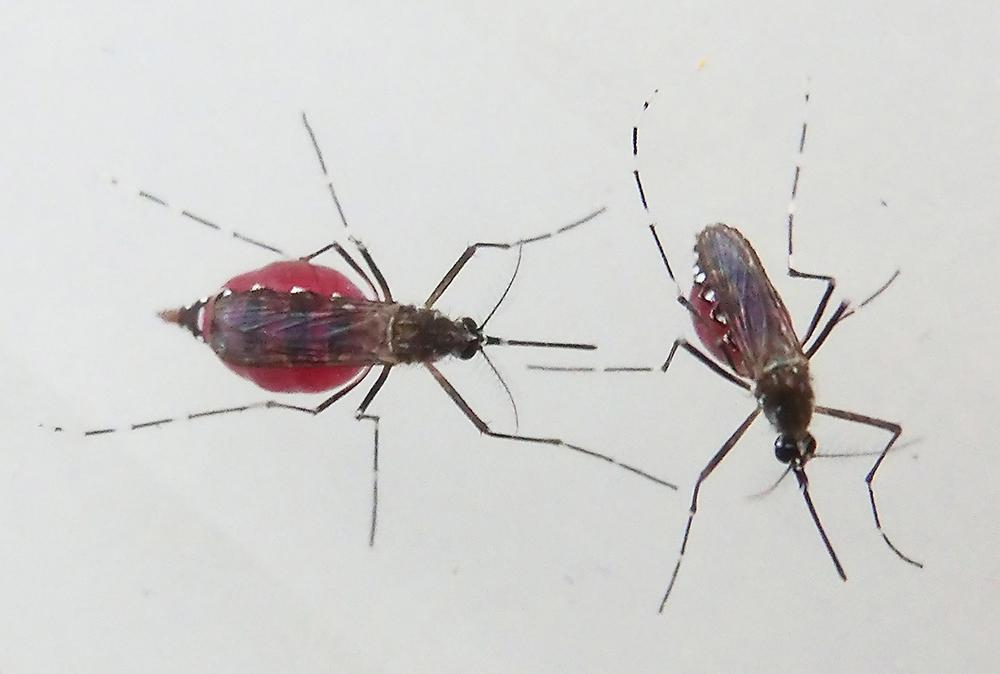insect: (25, 96, 687, 560), (516, 70, 938, 617)
